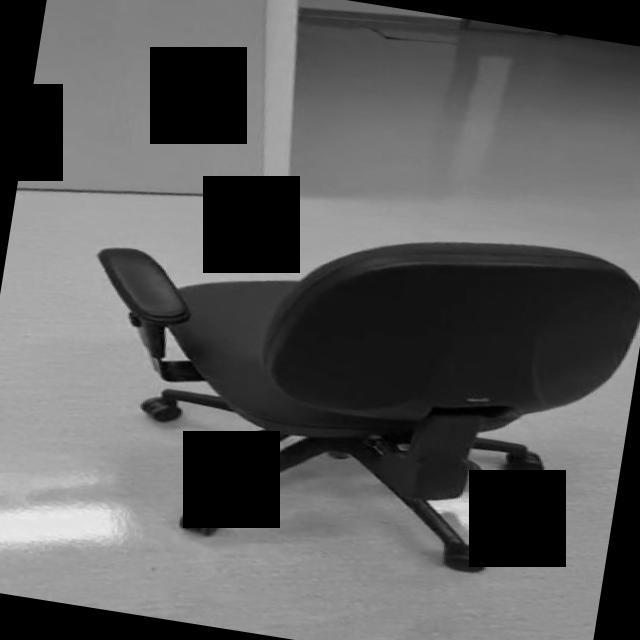chair: (58, 176, 640, 596)
